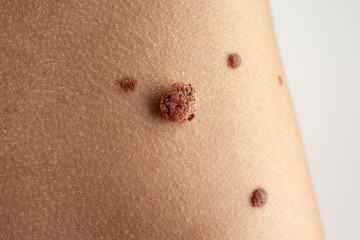melanoma: (140, 73, 216, 135)
